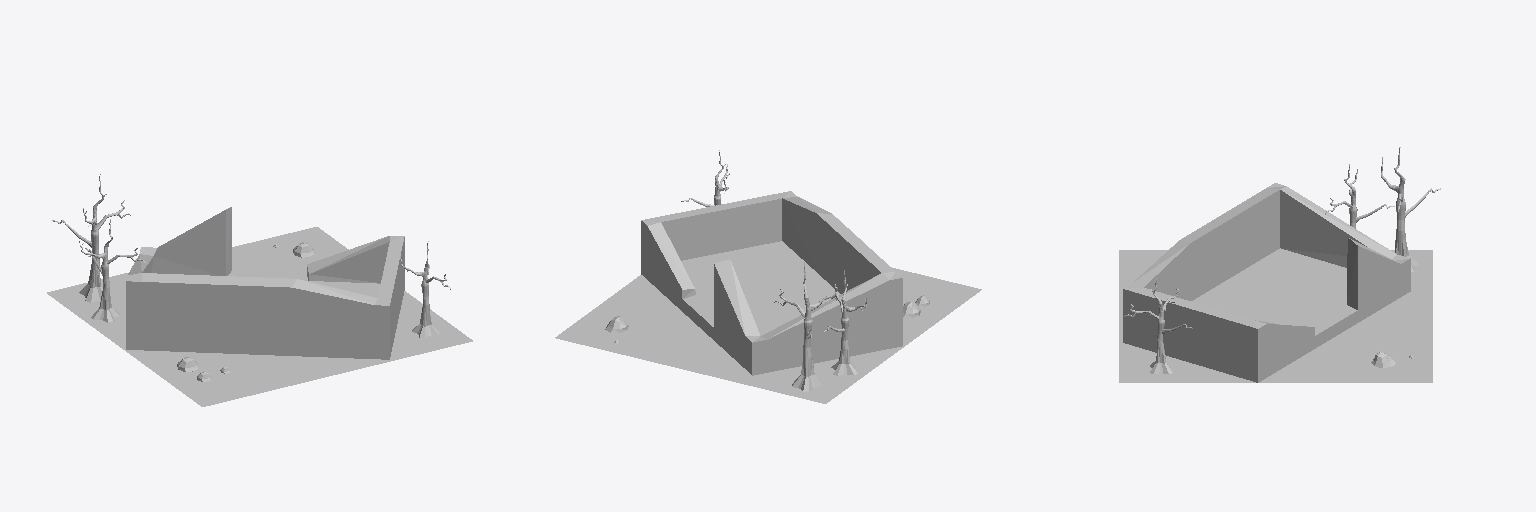
Rendered from room_piece_4.obj.
The picture shows the model from 3 angles: view 1: azimuth 30°, elevation 25°; view 2: azimuth 150°, elevation 25°; view 3: azimuth 270°, elevation 25°; orthographic projection.
Visible parts, largest first — view 1: pasted__polySurface26; view 2: pasted__polySurface26; view 3: pasted__polySurface26.
Part boxes in pixels (left/top/right/bottom): pasted__polySurface26: left=47, top=174, right=472, bottom=406; pasted__polySurface26: left=555, top=150, right=981, bottom=403; pasted__polySurface26: left=1119, top=147, right=1440, bottom=382.
Bounding box in the file's own units: 50.73 × 21.73 × 51.36.